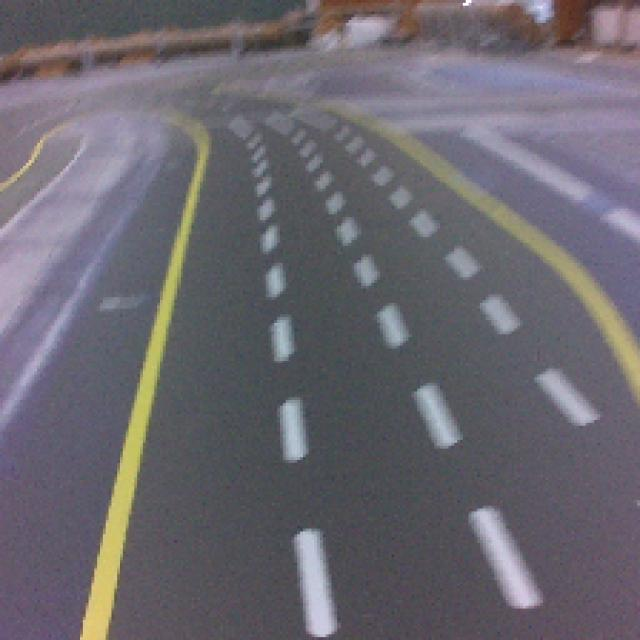Guard rail: (292, 527, 341, 638)
